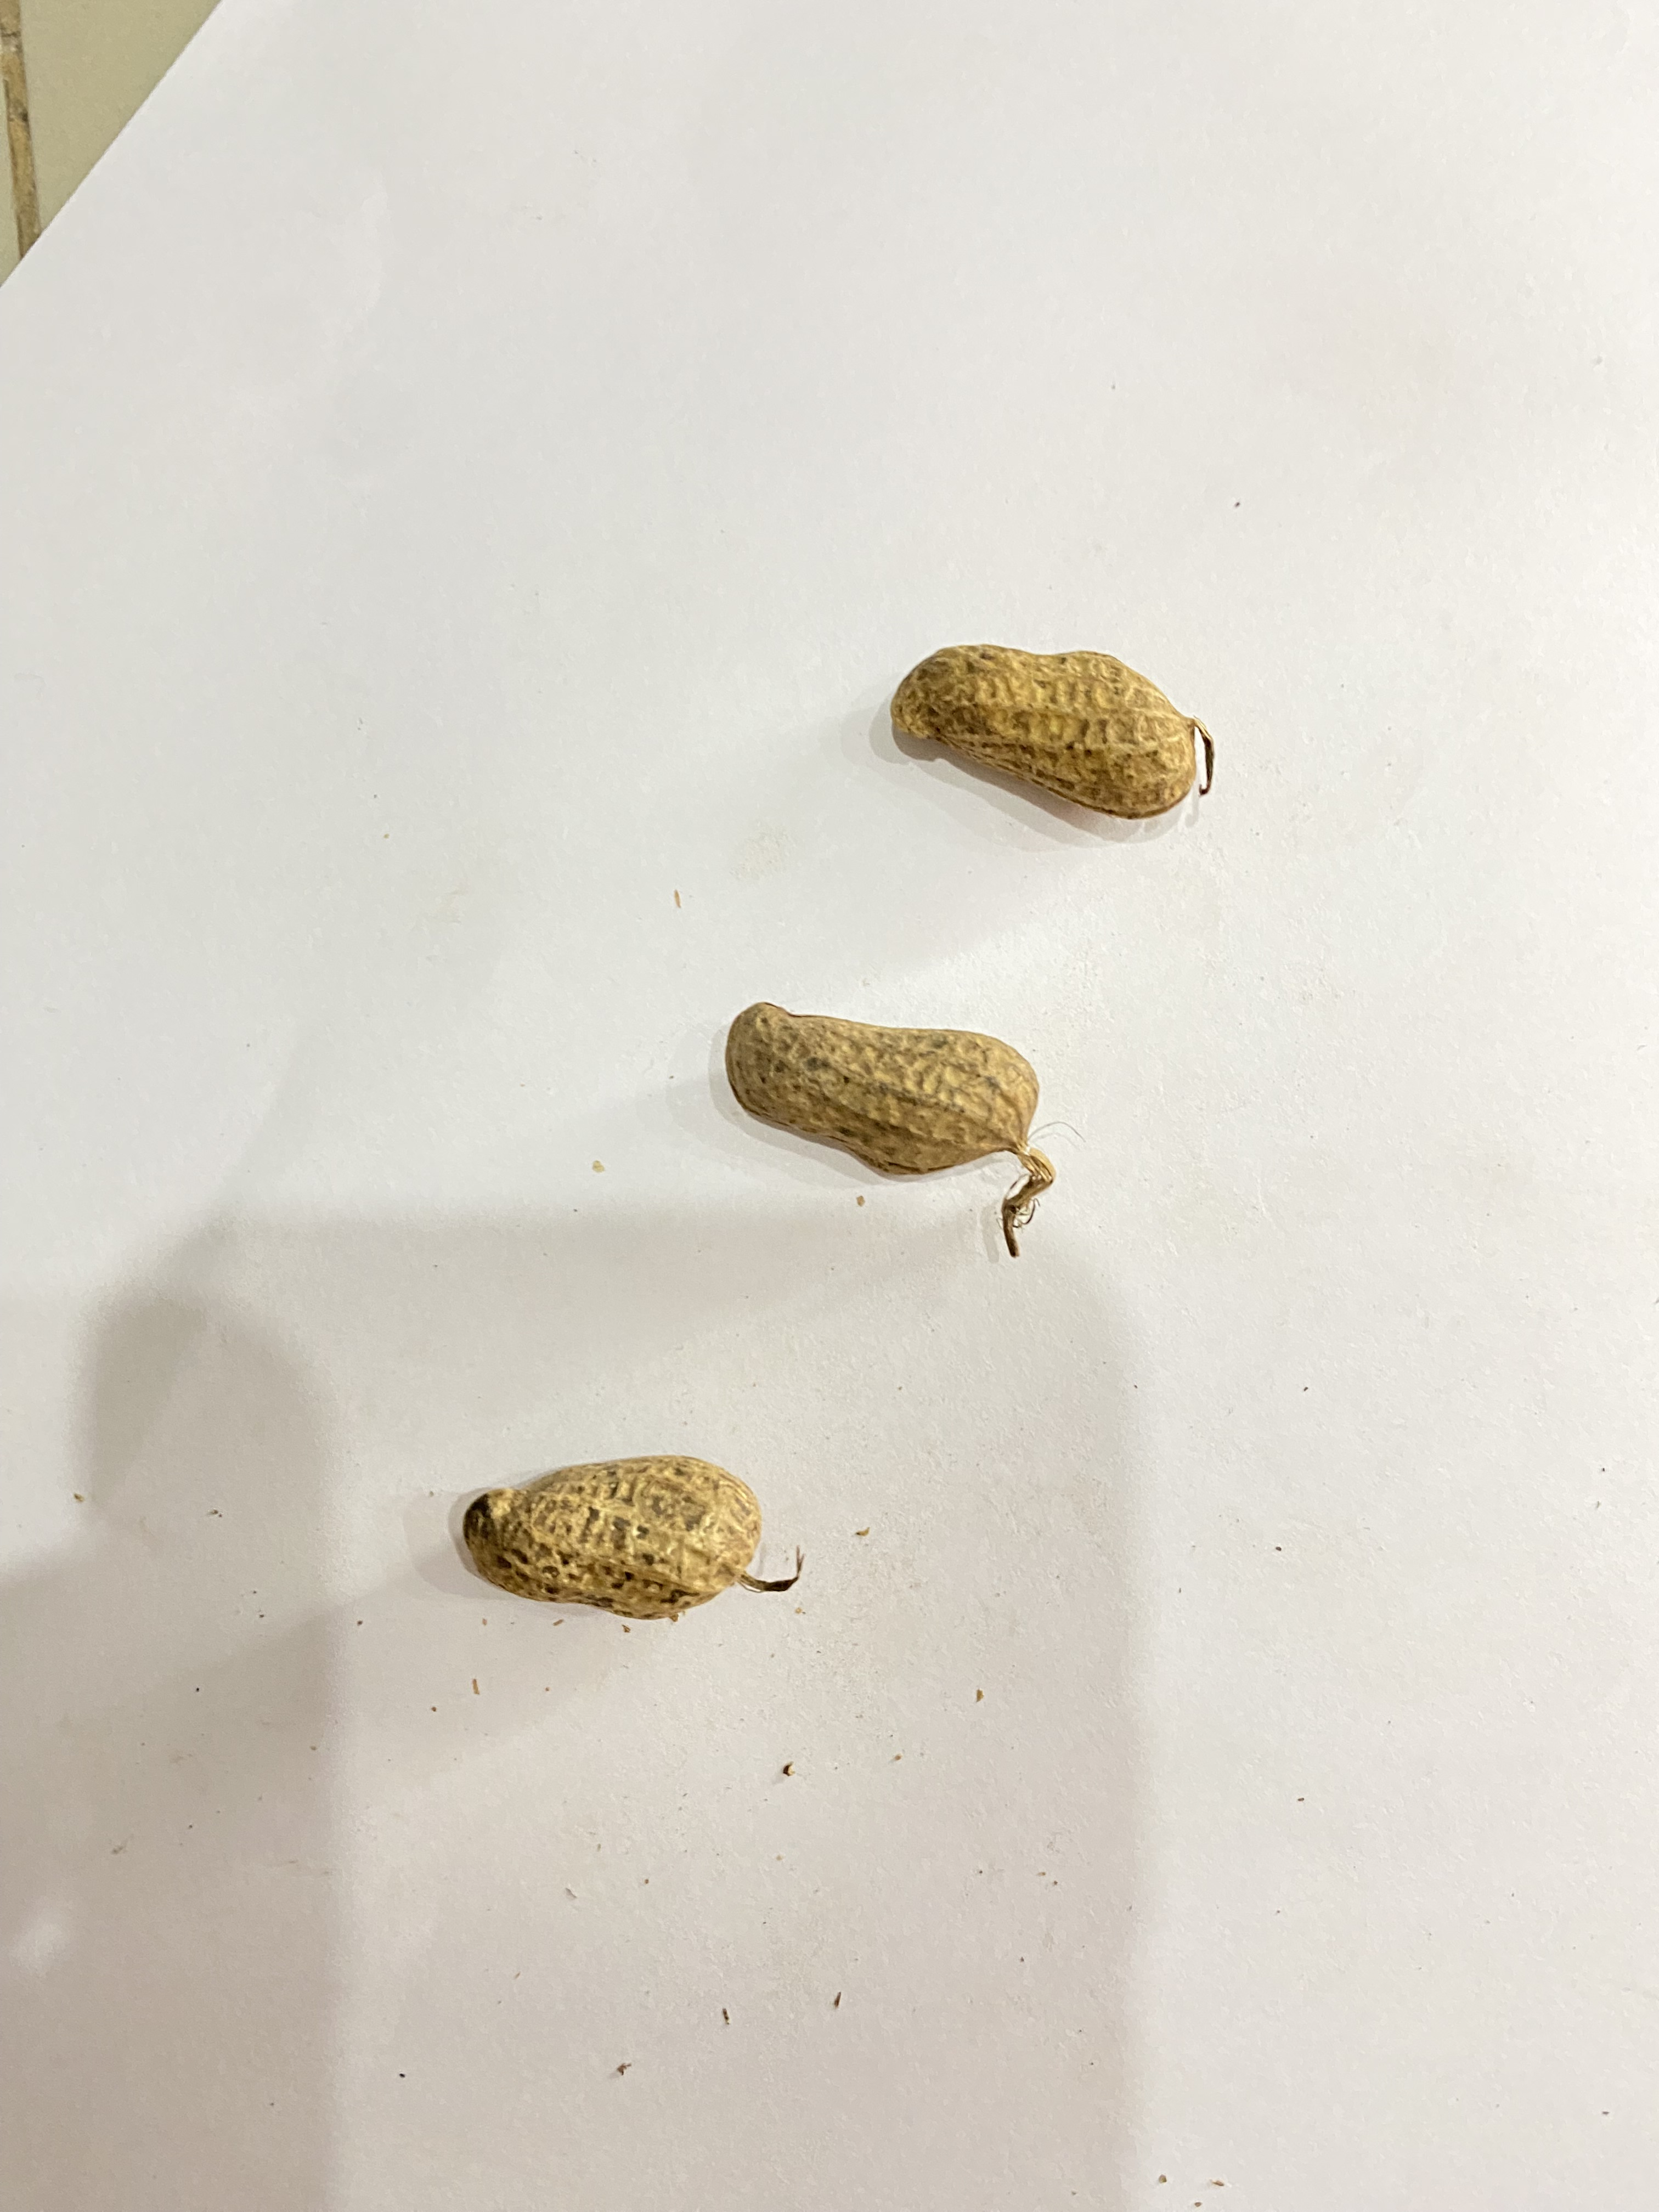kacang1: (448, 1371, 831, 1683), (704, 954, 1133, 1184), (882, 610, 1225, 845)
